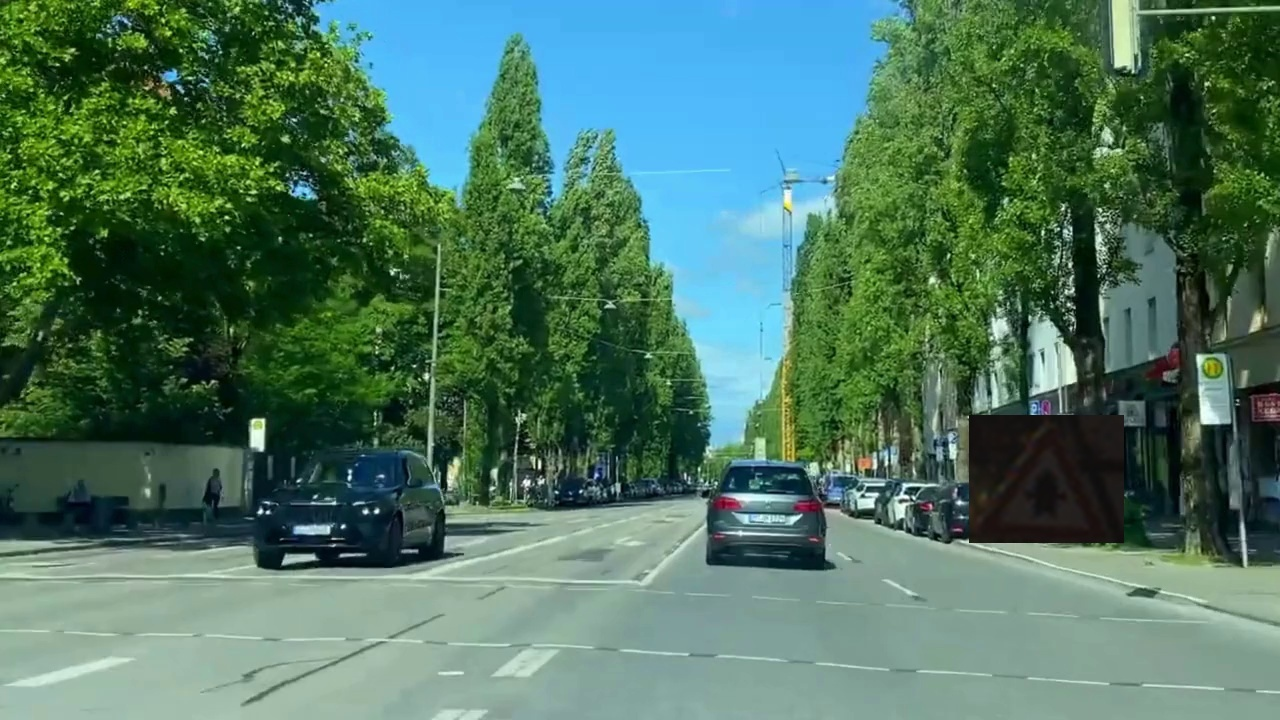Right-of-way: (969, 415, 1124, 543)
